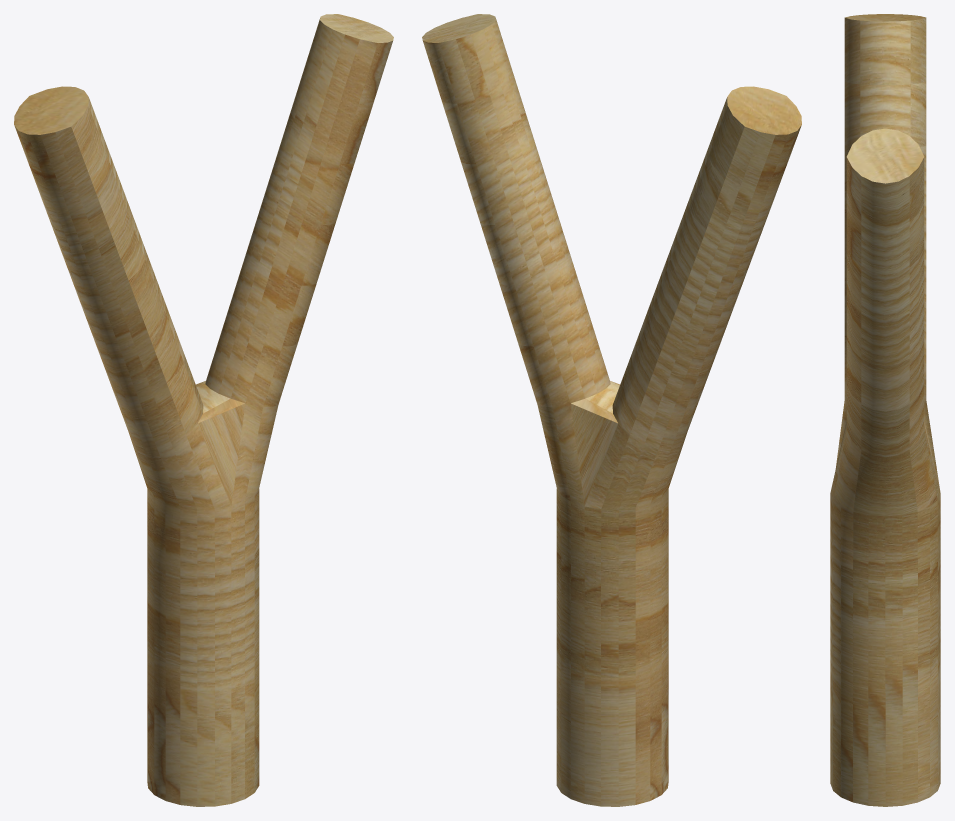
The model's file is slingshot.fbx.
The picture shows the model from 3 angles, left to right: view 1: azimuth 30°, elevation 25°; view 2: azimuth 150°, elevation 25°; view 3: azimuth 270°, elevation 25°; orthographic projection. The views are drawn at different scales.
Parts seen in each view (by area): view 1: Slingshot; view 2: Slingshot; view 3: Slingshot.
Boxes of the visible parts, box(x1,y1,x2,y2) form: Slingshot: box(14, 14, 393, 806); Slingshot: box(422, 14, 801, 806); Slingshot: box(830, 14, 940, 806).
Bounding box in the file's own units: 47.33 × 88.87 × 12.44.
